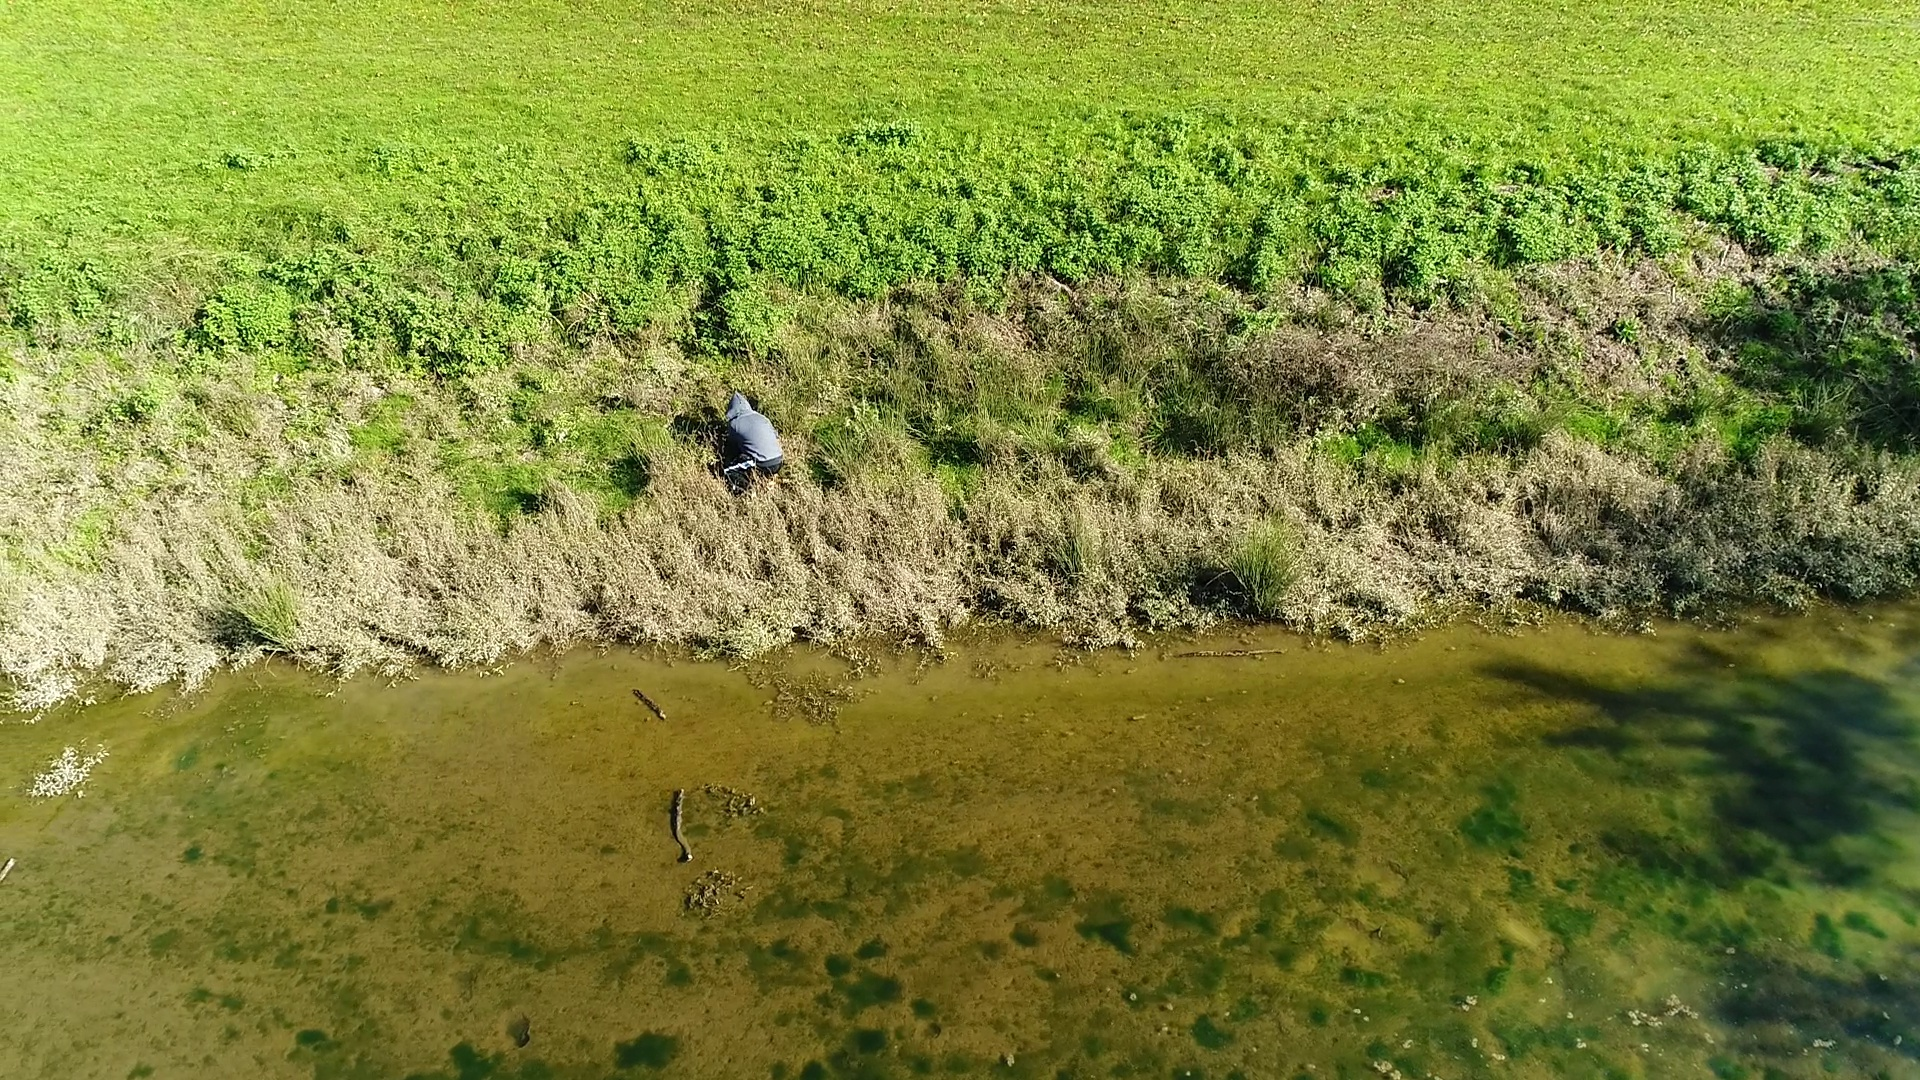not_defined: (719, 392, 781, 495)
